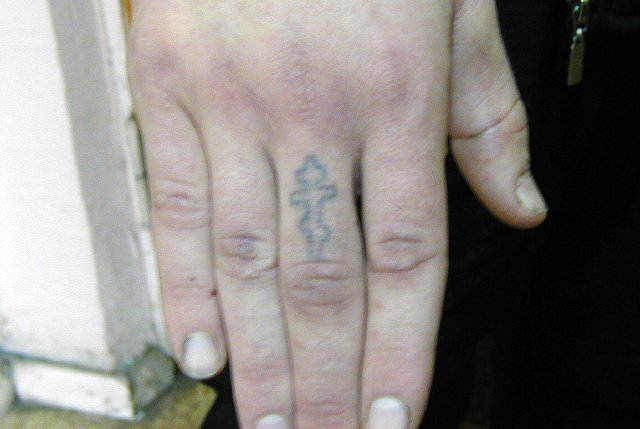tatu9_krest: (280, 149, 341, 269)
